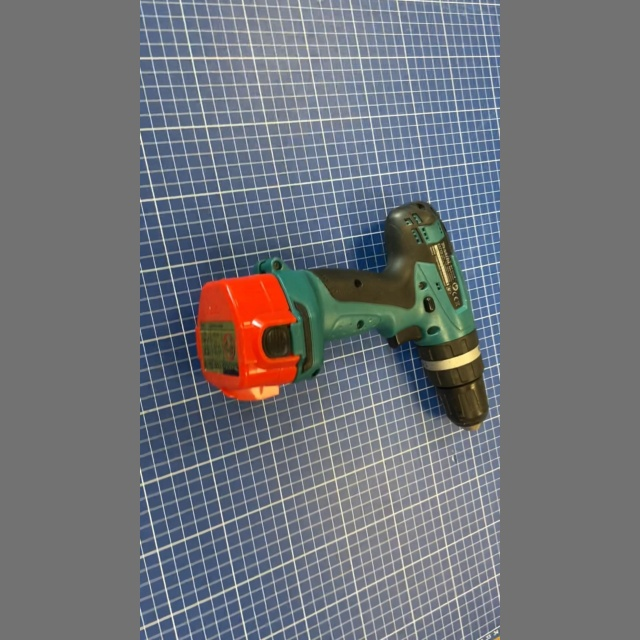drill: (186, 193, 496, 437)
